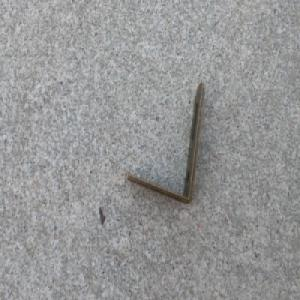MetalPart: (125, 81, 206, 205)
